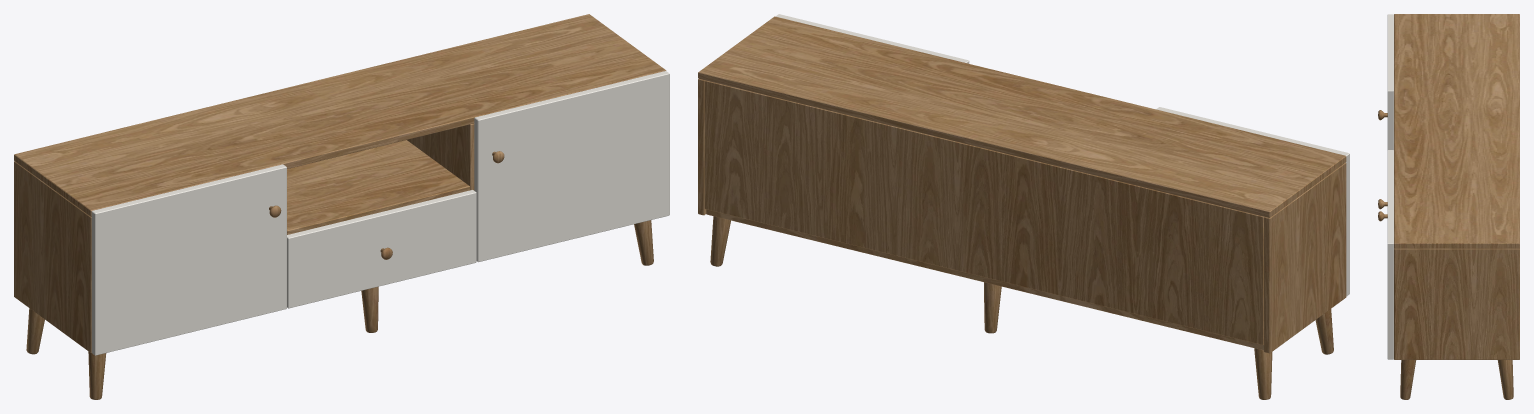
The model's file is mueble_tv_roble_160.glb.
3 renders of one model, left to right at view 1: azimuth 30°, elevation 25°; view 2: azimuth 150°, elevation 25°; view 3: azimuth 270°, elevation 25°, orthographic. The views are drawn at different scales.
Parts seen in each view (by area): view 1: mueble_tv_roble_160; view 2: mueble_tv_roble_160; view 3: mueble_tv_roble_160.
Boxes of the visible parts, left/top/right/bottom form: mueble_tv_roble_160: left=14, top=14, right=669, bottom=399; mueble_tv_roble_160: left=698, top=14, right=1349, bottom=399; mueble_tv_roble_160: left=1378, top=14, right=1519, bottom=399.
Size of the model in its own units: 1.6 by 0.5212 by 0.418.
Materials: 2 (1 with a texture image).
